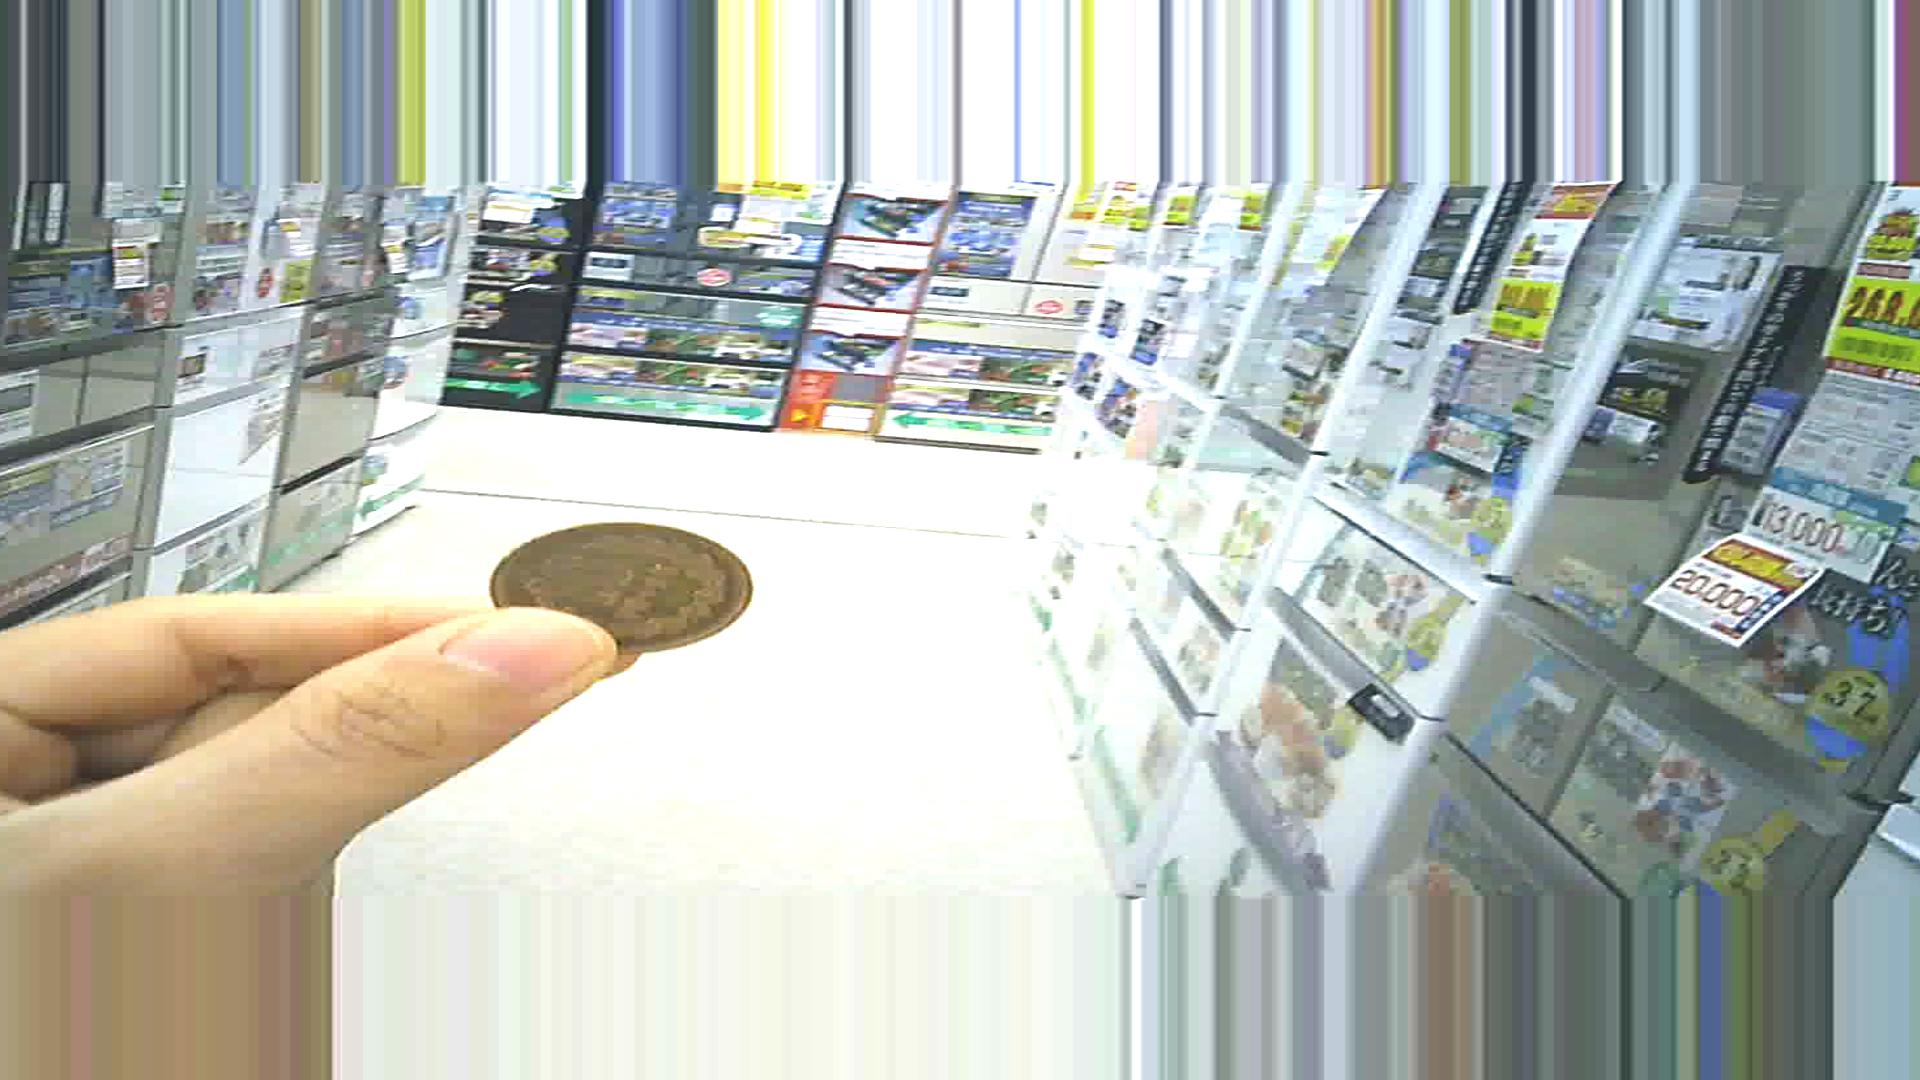10 Yen: (479, 513, 760, 655)
